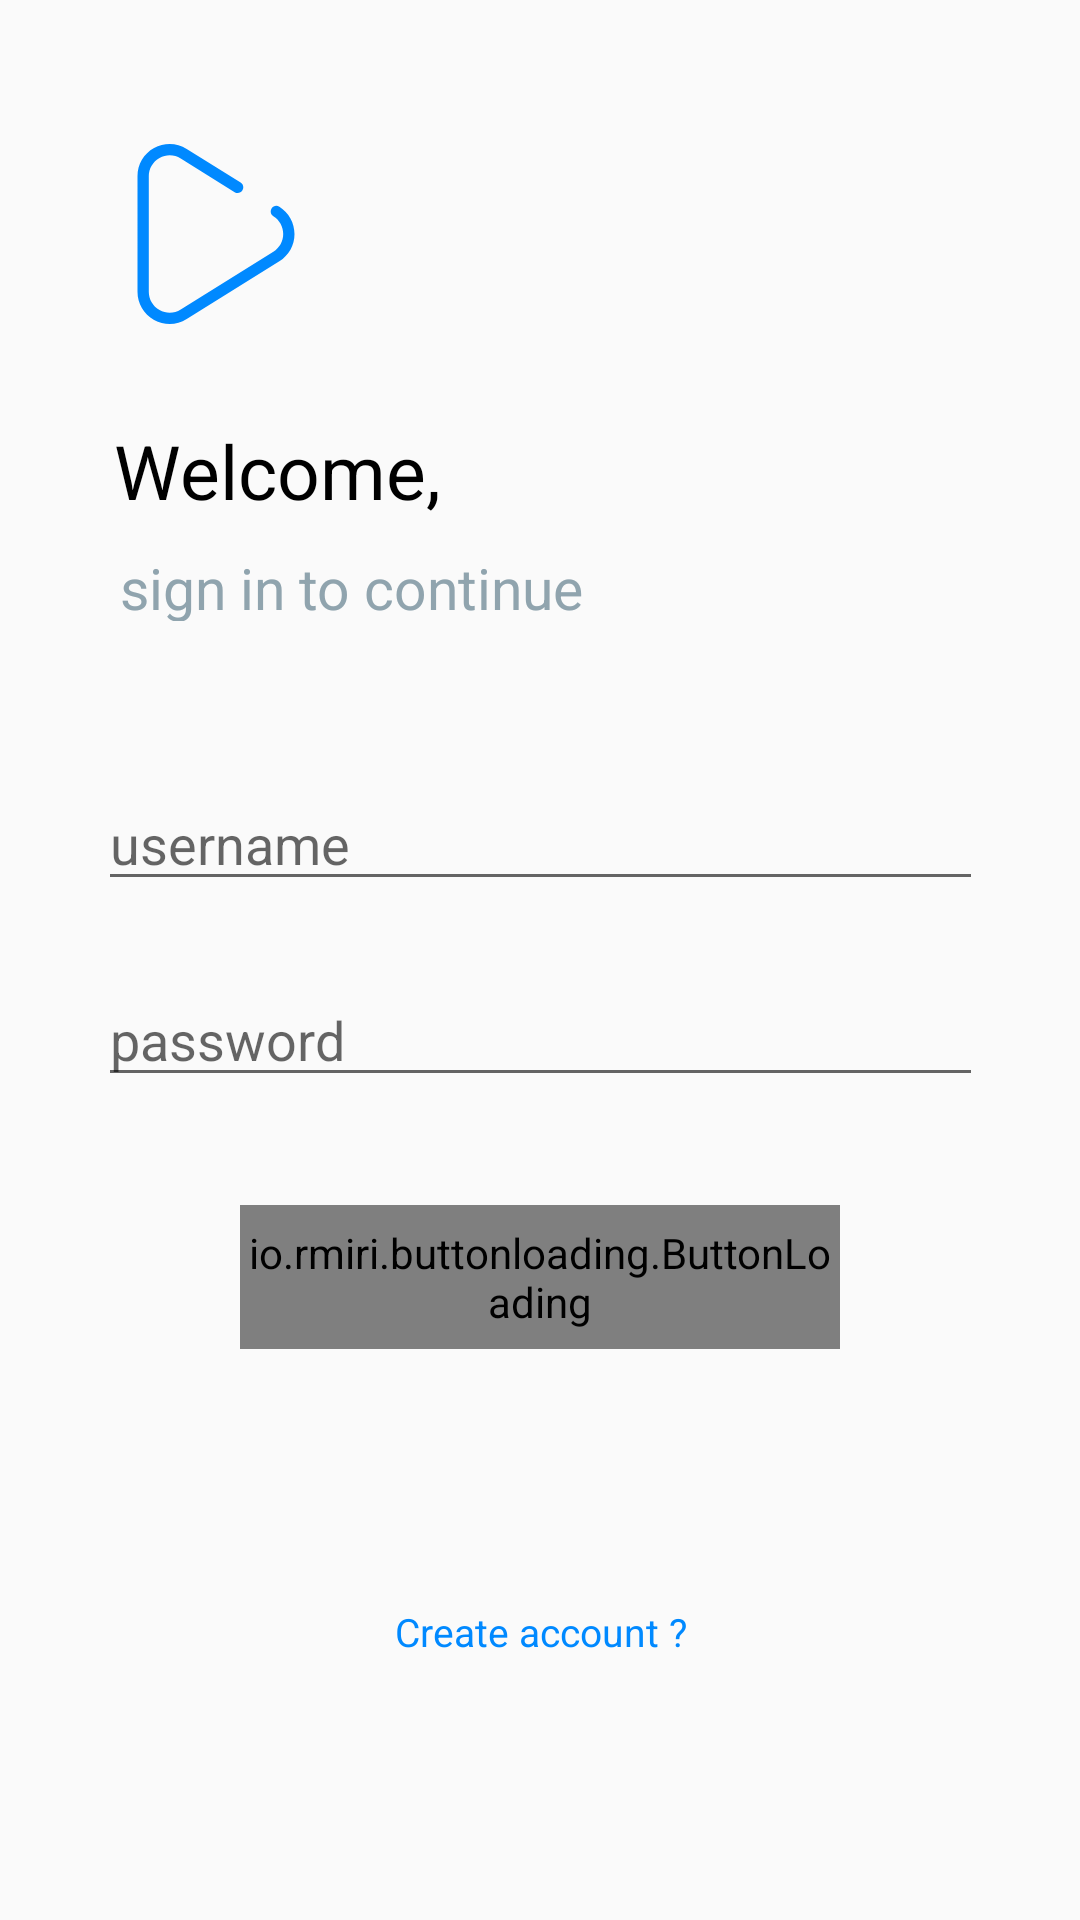

Named icons in this screenshot (1080 x 1920) and their bounding boxes, bbox=[x1, y1, x2, y2]:
play: bbox=[137, 144, 295, 324]
